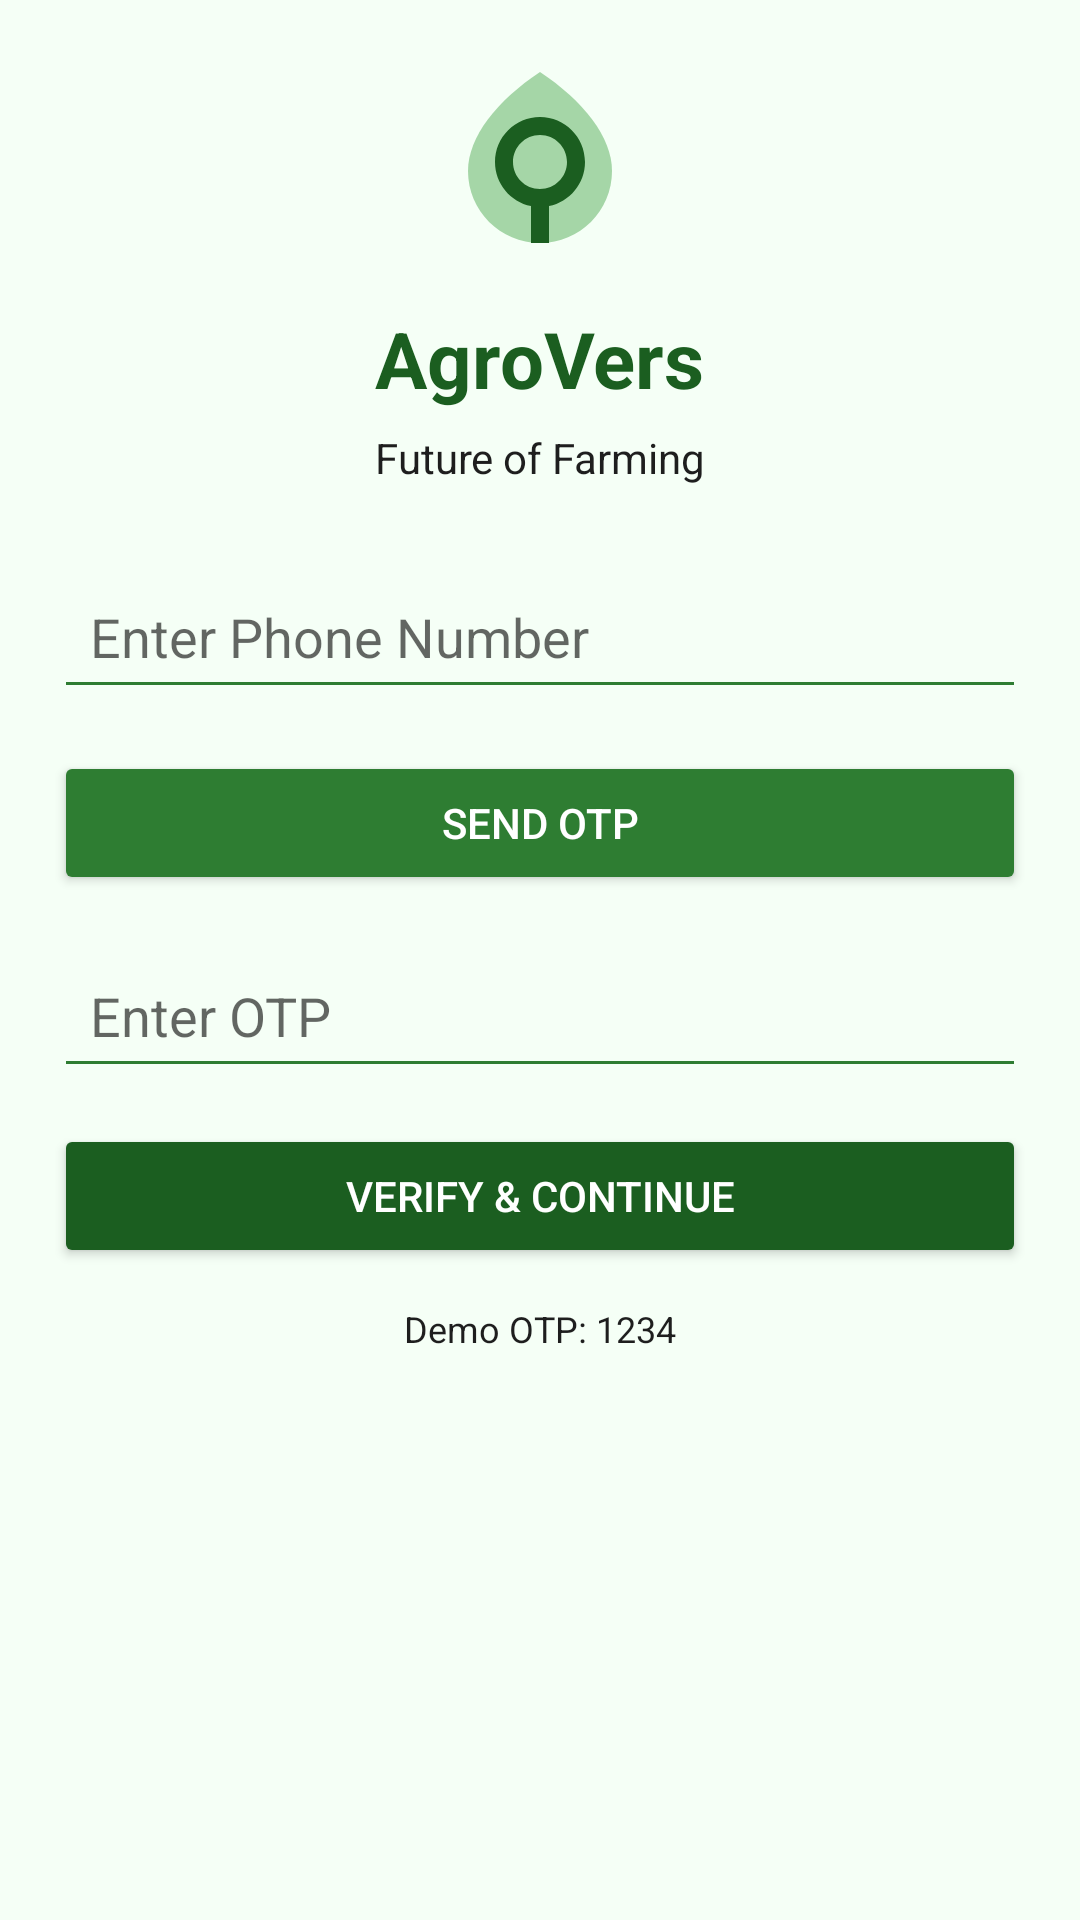

Locate icon controls on the screen. Image size 1080w x 1920h, boxes as (x1, y1, x2, y2).
app: (468, 72, 612, 243)
